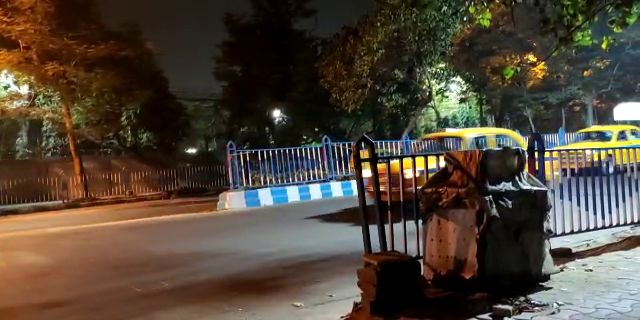Car: (352, 127, 564, 203), (553, 120, 640, 178)
